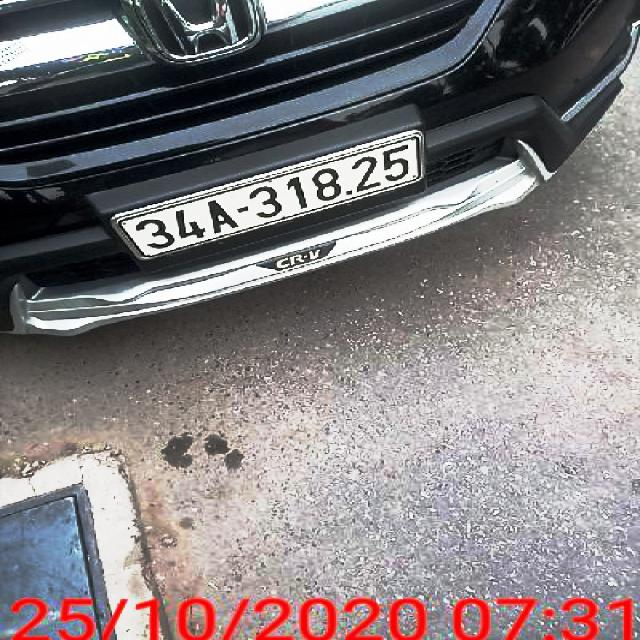license_plate: (112, 133, 420, 263)
